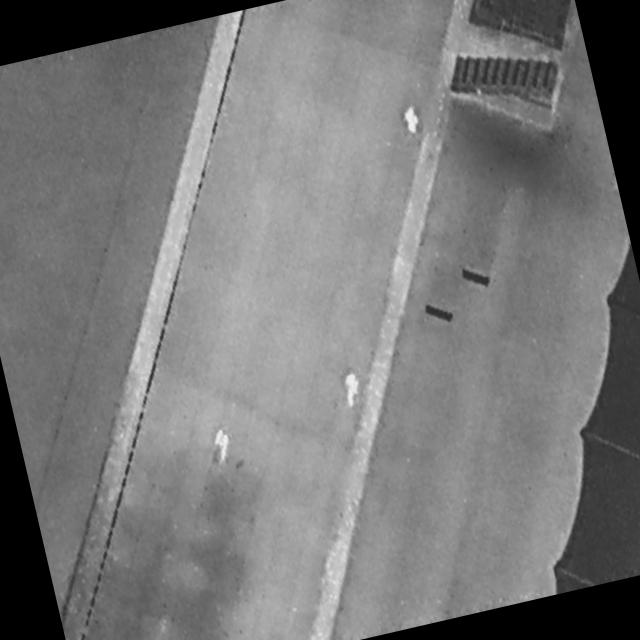person: (336, 365, 369, 412), (205, 424, 238, 468), (398, 101, 426, 139)
